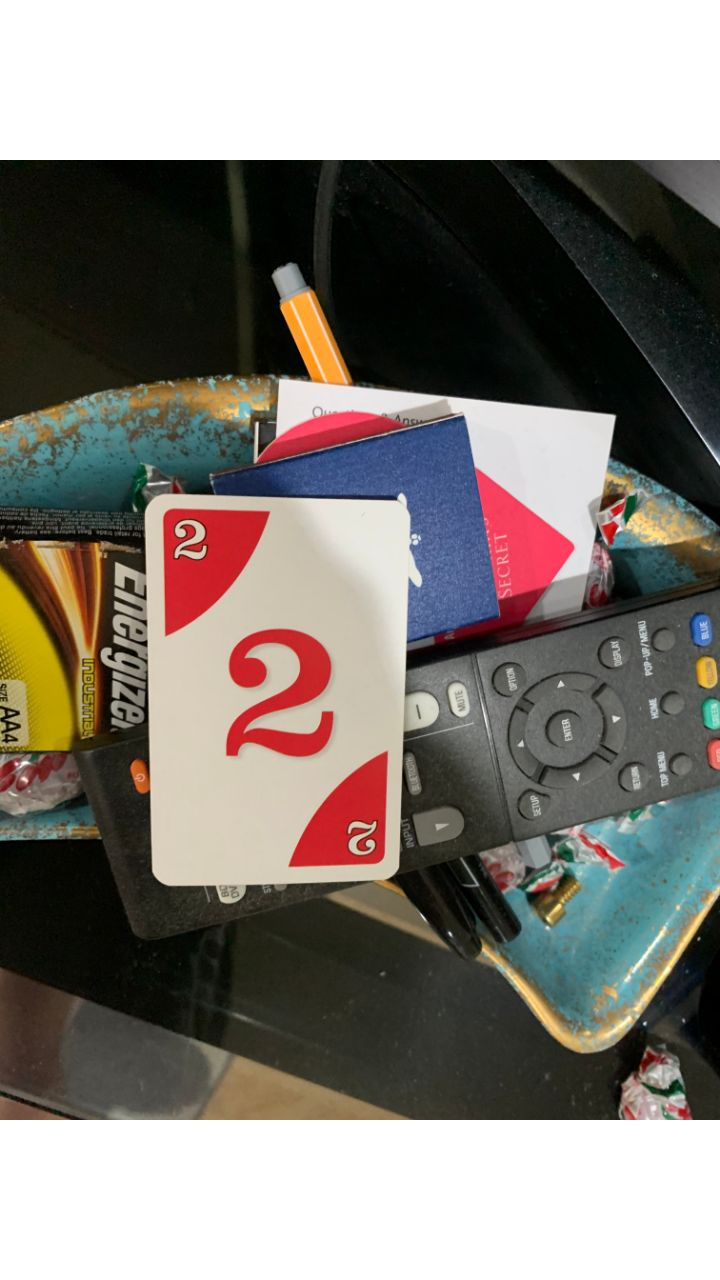two: (143, 493, 401, 888)
